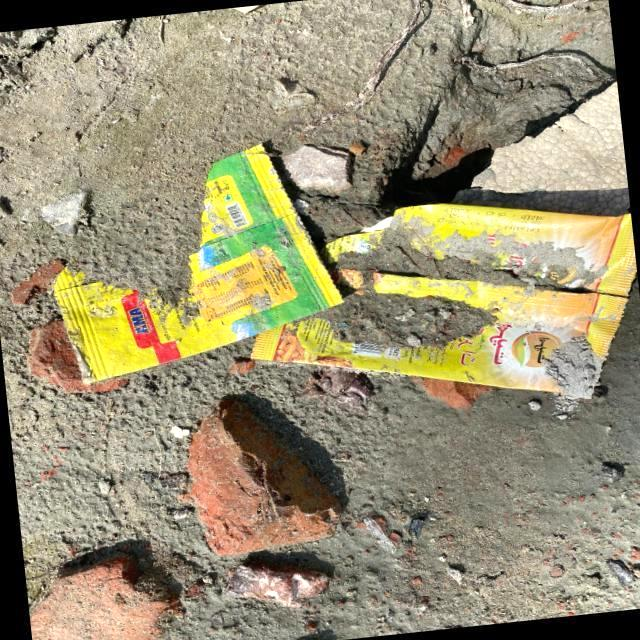packet: (269, 181, 640, 404), (16, 149, 341, 371)
